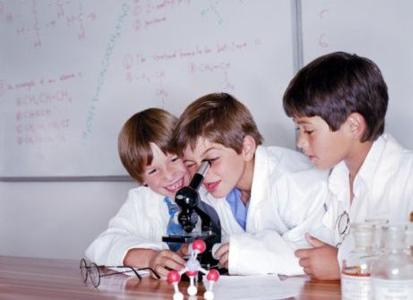person: (172, 93, 330, 279)
